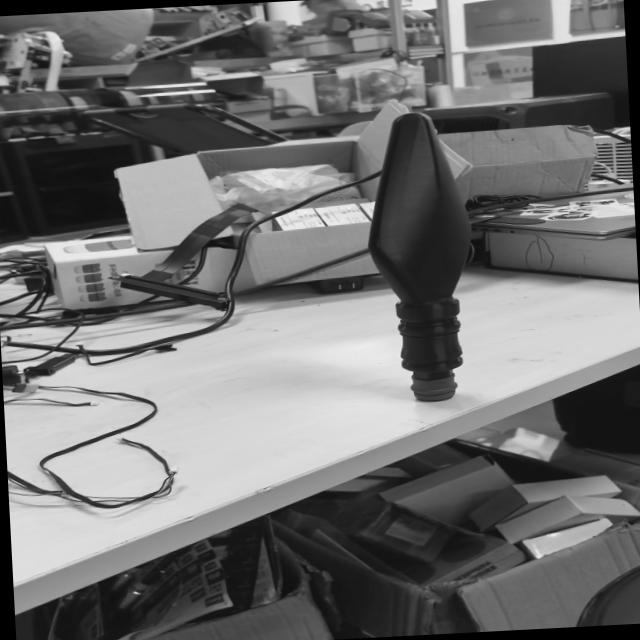base: (408, 372, 466, 406)
